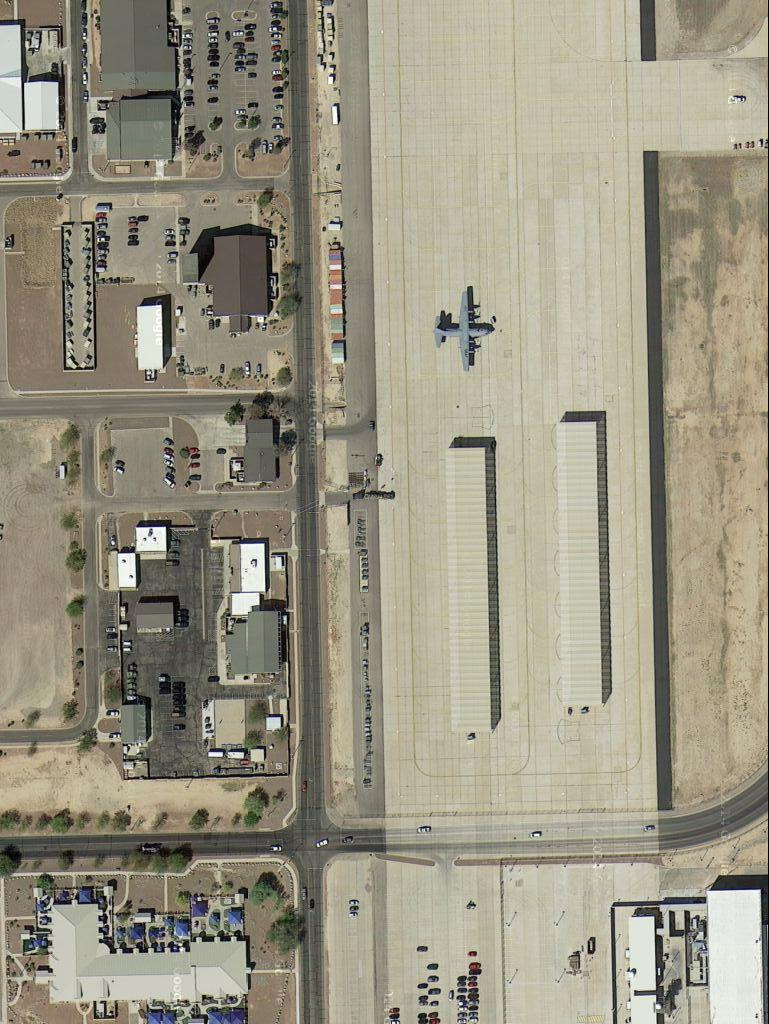C-130: (431, 284, 496, 374)
